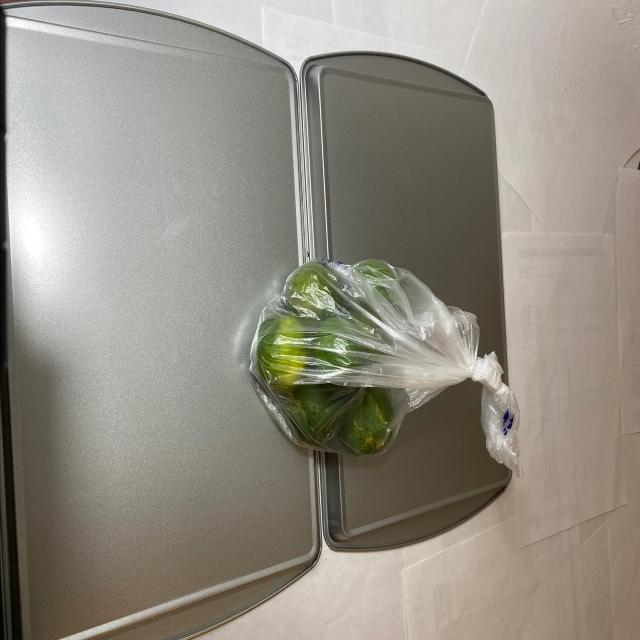lemon: (244, 252, 417, 462)
